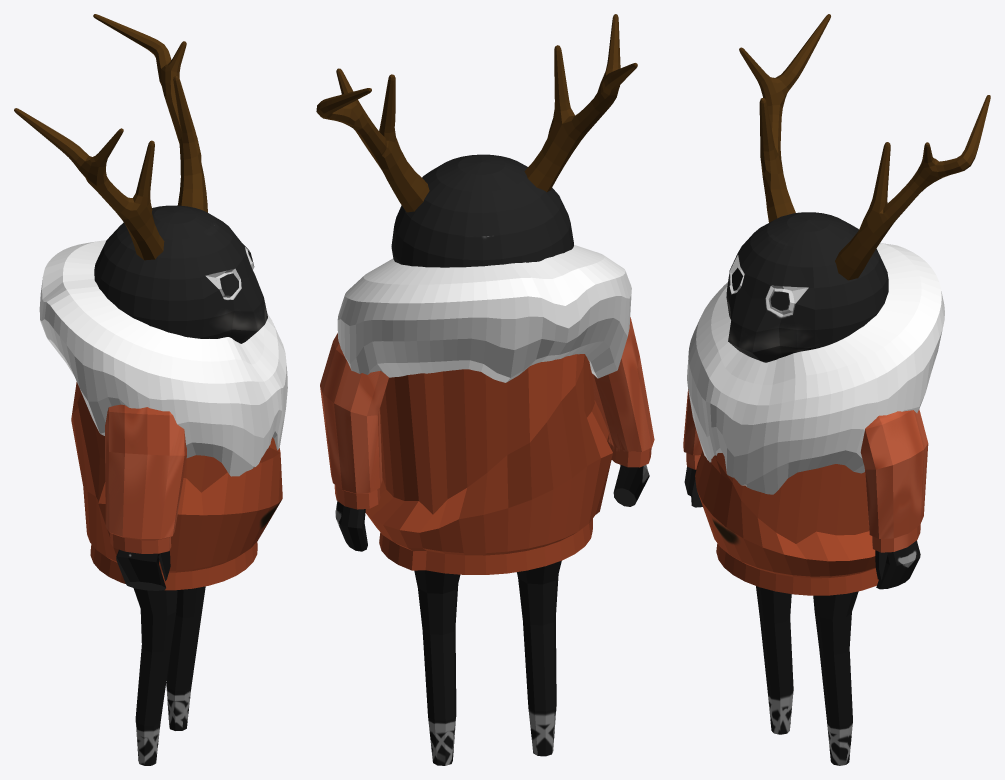
The model's file is ingrid.glb.
The picture shows the model from 3 angles, left to right: view 1: azimuth 30°, elevation 25°; view 2: azimuth 150°, elevation 25°; view 3: azimuth 270°, elevation 25°; orthographic projection. The views are drawn at different scales.
Visible parts, largest first — view 1: Сфера; view 2: Сфера; view 3: Сфера.
Boxes of the visible parts, bbox=[...] form: Сфера: bbox=[14, 14, 287, 765]; Сфера: bbox=[316, 14, 654, 765]; Сфера: bbox=[683, 14, 990, 765].
Size of the model in its own units: 3.6 by 8.94 by 3.74.
Materials: 6 (6 with a texture image).
